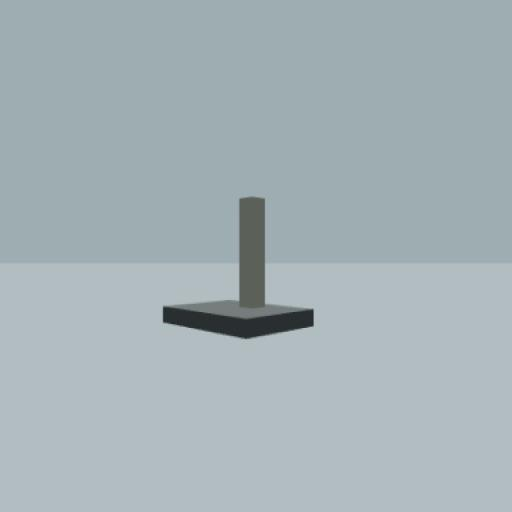platform: (162, 196, 315, 342)
